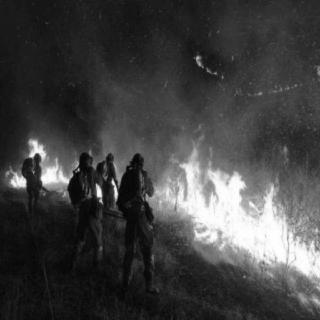Fire: (183, 41, 317, 108)
